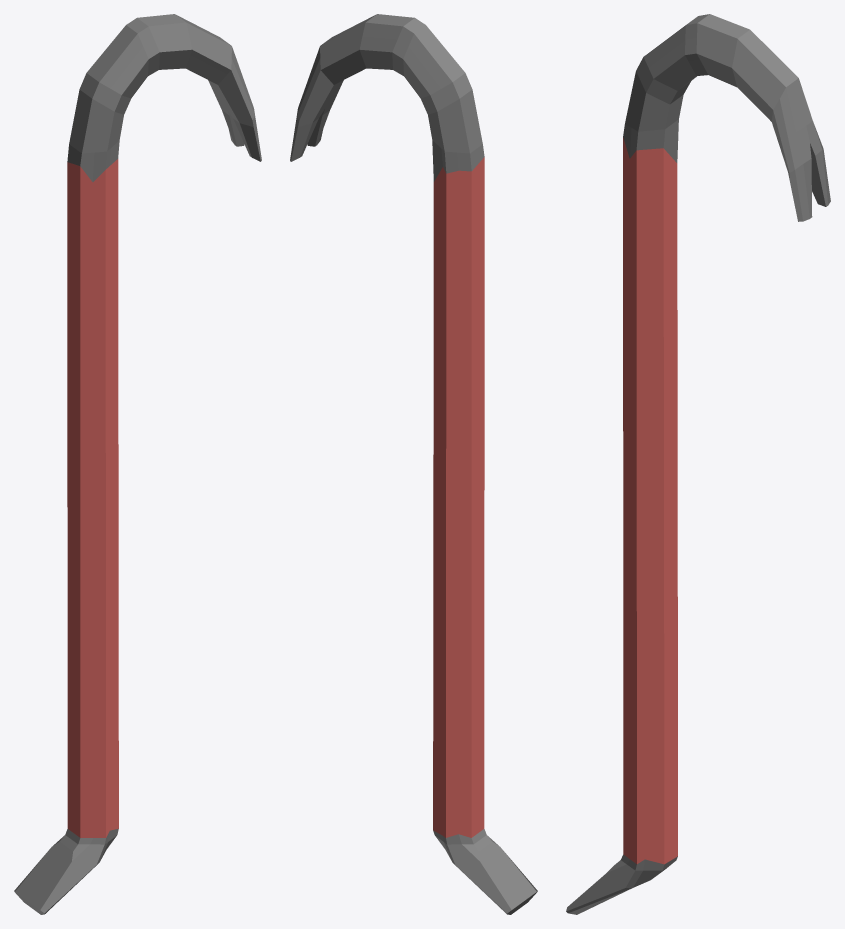
Rendered from scene_kQzeRtUAgl.glb.
3 renders of one model, left to right at view 1: azimuth 30°, elevation 25°; view 2: azimuth 150°, elevation 25°; view 3: azimuth 330°, elevation 25°, orthographic. The views are drawn at different scales.
Parts seen in each view (by area): view 1: Crowbar; view 2: Crowbar; view 3: Crowbar.
Boxes of the visible parts, x1,y1,x2,y2 form: Crowbar: [14, 14, 261, 914]; Crowbar: [290, 14, 537, 914]; Crowbar: [566, 14, 830, 914].
Bounding box in the file's own units: 0.3705 × 1.36 × 0.0881.
